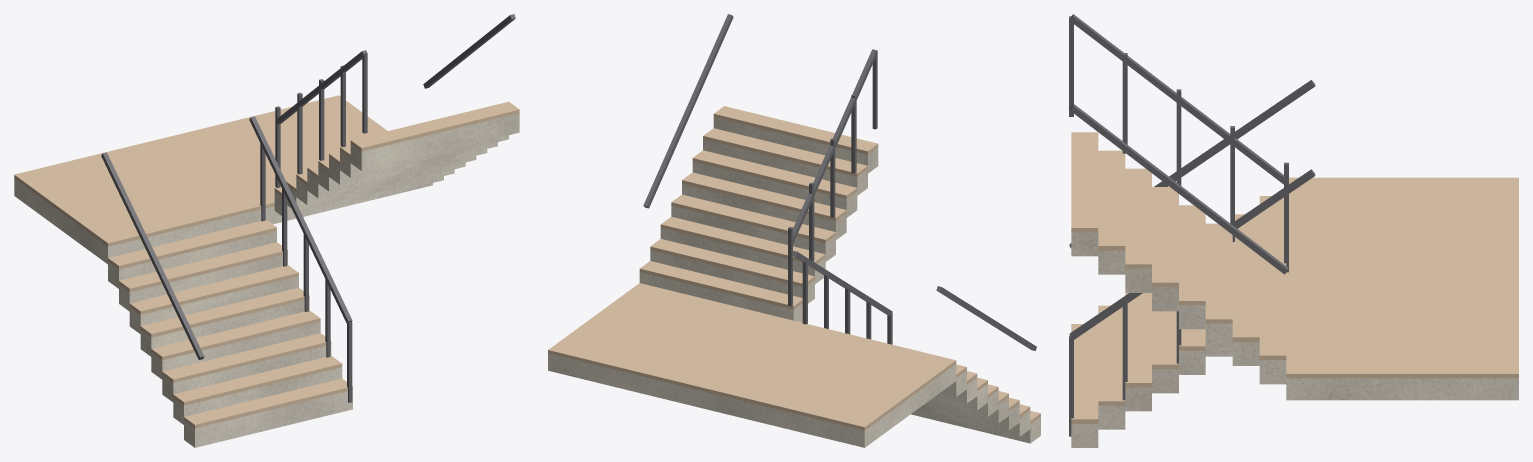
The model's file is stairs_u_3m_192_192.glb.
The picture shows the model from 3 angles, left to right: view 1: azimuth 30°, elevation 25°; view 2: azimuth 150°, elevation 25°; view 3: azimuth 270°, elevation 25°; orthographic projection. The views are drawn at different scales.
Parts seen in each view (by area): view 1: stairs_u_3m_192_192_floor, stairs_u_3m_192_192_plaster, stairs_u_3m_192_192_iron; view 2: stairs_u_3m_192_192_floor, stairs_u_3m_192_192_plaster, stairs_u_3m_192_192_iron; view 3: stairs_u_3m_192_192_floor, stairs_u_3m_192_192_plaster, stairs_u_3m_192_192_iron.
Part boxes in pixels (x1=…): stairs_u_3m_192_192_floor: x1=14, y1=95, x2=519, y2=428; stairs_u_3m_192_192_plaster: x1=14, y1=113, x2=519, y2=447; stairs_u_3m_192_192_iron: x1=101, y1=14, x2=515, y2=402; stairs_u_3m_192_192_floor: x1=548, y1=106, x2=1040, y2=430; stairs_u_3m_192_192_plaster: x1=548, y1=117, x2=1040, y2=447; stairs_u_3m_192_192_iron: x1=643, y1=14, x2=1036, y2=350; stairs_u_3m_192_192_floor: x1=1071, y1=132, x2=1518, y2=423; stairs_u_3m_192_192_plaster: x1=1071, y1=232, x2=1518, y2=447; stairs_u_3m_192_192_iron: x1=1069, y1=14, x2=1315, y2=436.
Size of the model in its own units: 3.84 by 4.01 by 3.72.
3 materials, 1 textured.
